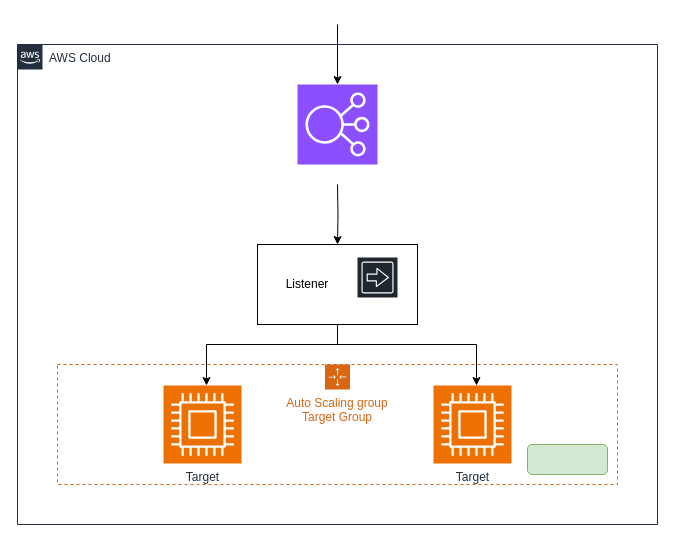
Some shapes in this 675 by 542 pixel diagram are drawn without their labels. The centre of each missing label's shape, as x and y in pixels:
Health Check: the point at 567,459
Load Balancer: the point at 337,124
Rule: the point at 377,277
